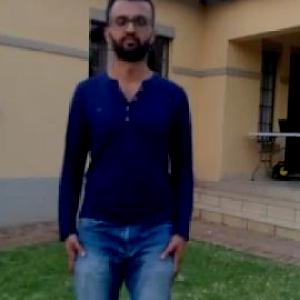follow: (70, 8, 190, 299)
